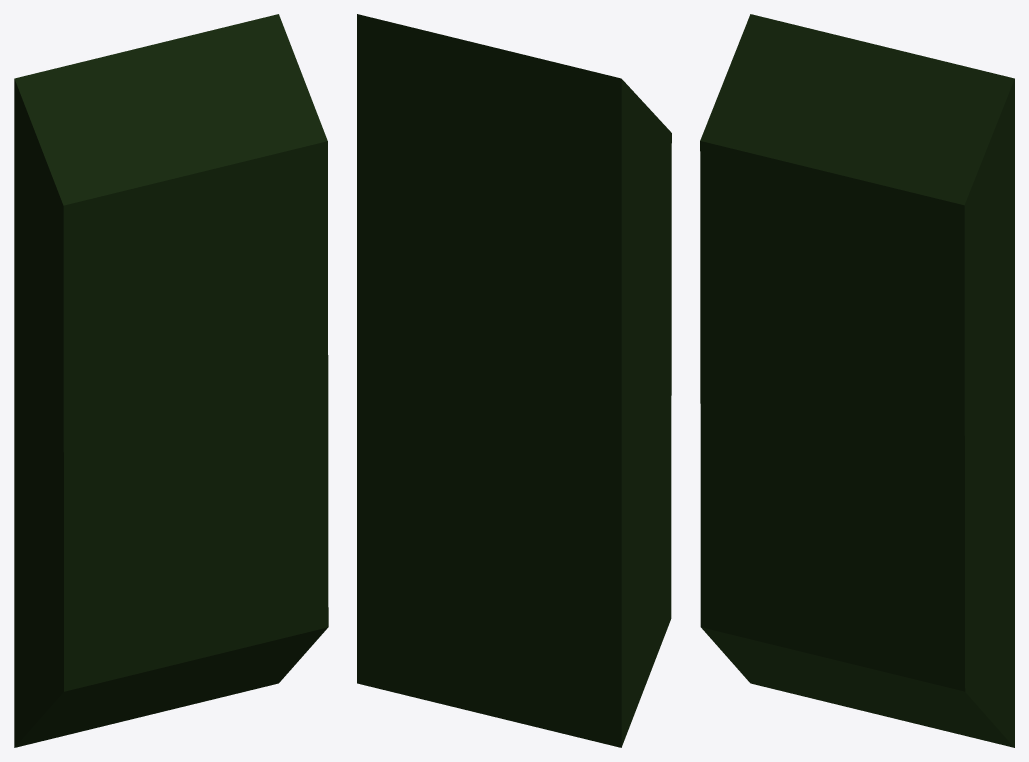
The model's file is body.fbx.
3 views of the same model, side by side, from view 1: azimuth 30°, elevation 25°; view 2: azimuth 150°, elevation 25°; view 3: azimuth 330°, elevation 25° (orthographic).
Visible parts, largest first — view 1: Cube; view 2: Cube; view 3: Cube.
Boxes of the visible parts, x1=… form: Cube: x1=14, y1=14, x2=328, y2=747; Cube: x1=357, y1=14, x2=671, y2=747; Cube: x1=700, y1=14, x2=1014, y2=747.
Bounding box in the file's own units: 804 × 108 × 333.
